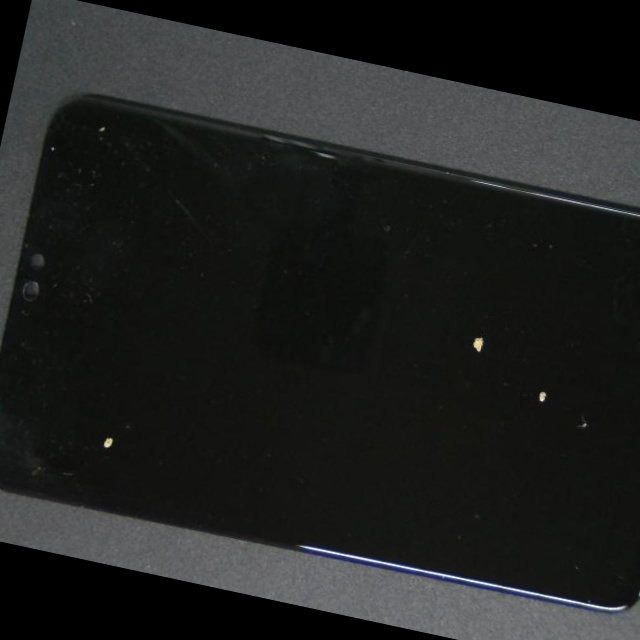stain: (211, 131, 640, 497), (243, 172, 640, 548), (25, 214, 249, 580)
